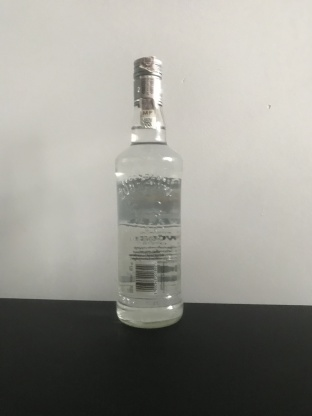nakretka: (132, 55, 164, 108)
